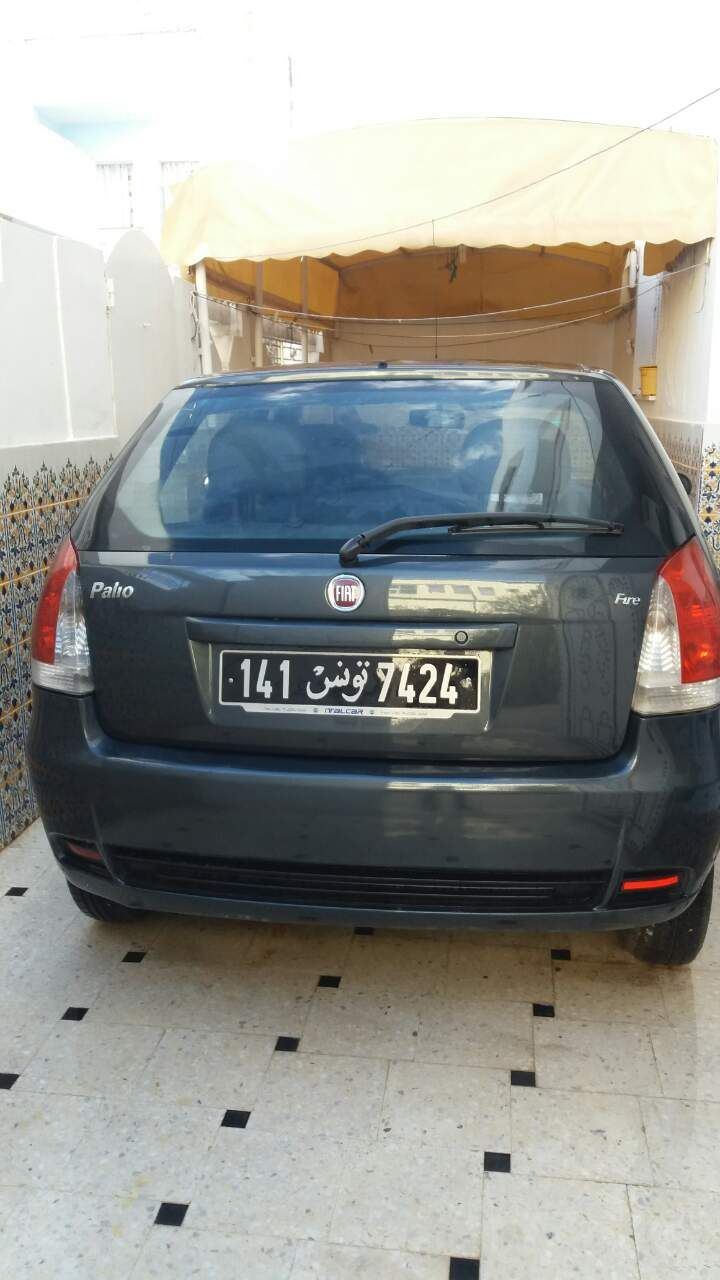LP: (218, 648, 483, 719)
